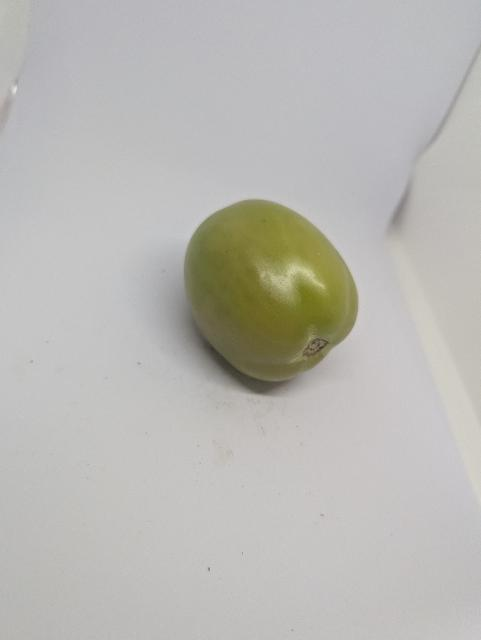green: (165, 185, 370, 399)
